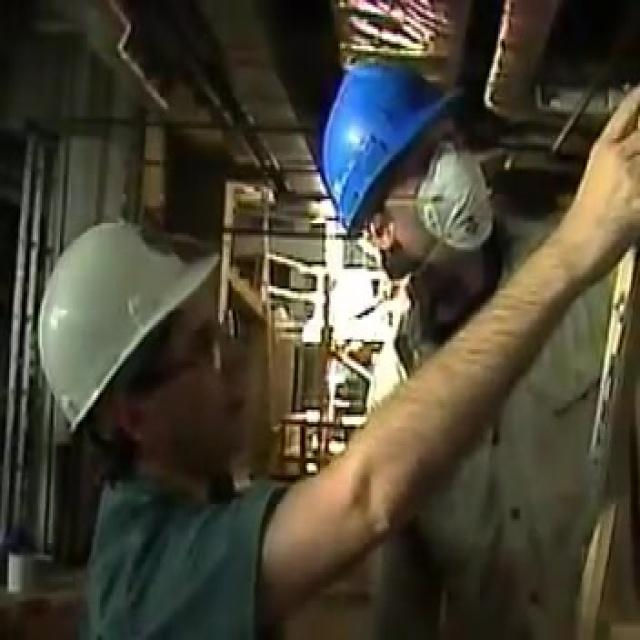helmet: (35, 301, 222, 579), (322, 75, 460, 313)
